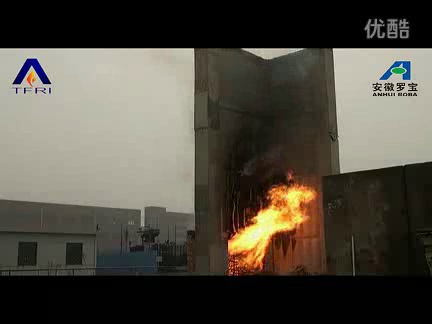fire: (226, 176, 320, 275)
